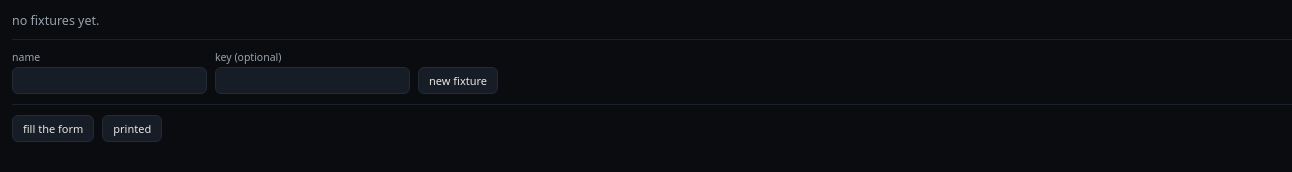
Scenario: FixturePanel — fill the form › says so in words when no fixture is loaded — never touches the plate
Expected: the text "no fixtures yet." is shown, [12, 12, 99, 29]
Click the button "fill the form".
click(53, 128)  # box [12, 115, 94, 142]
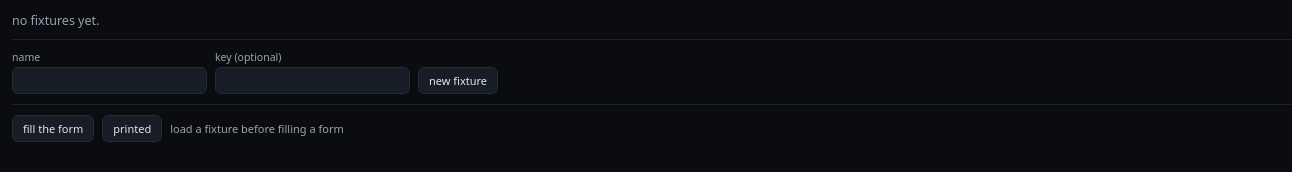
Now the text "load a fixture before filling a form" is shown, box [170, 121, 344, 136]
